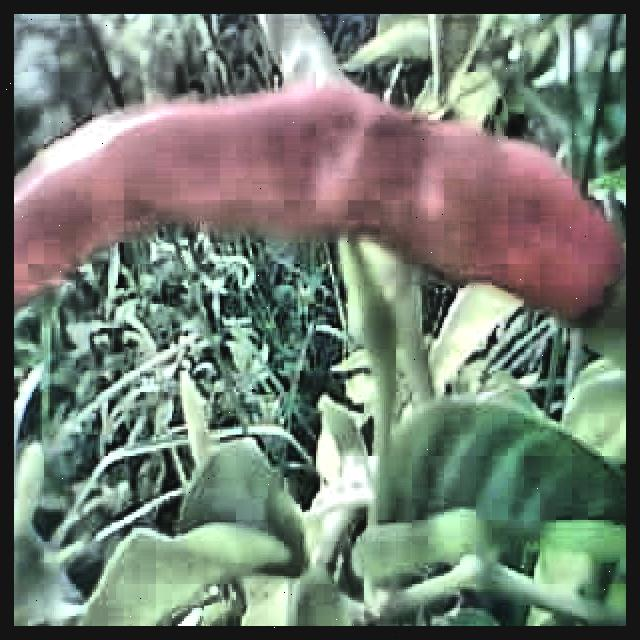Cabai: (14, 127, 618, 332)
